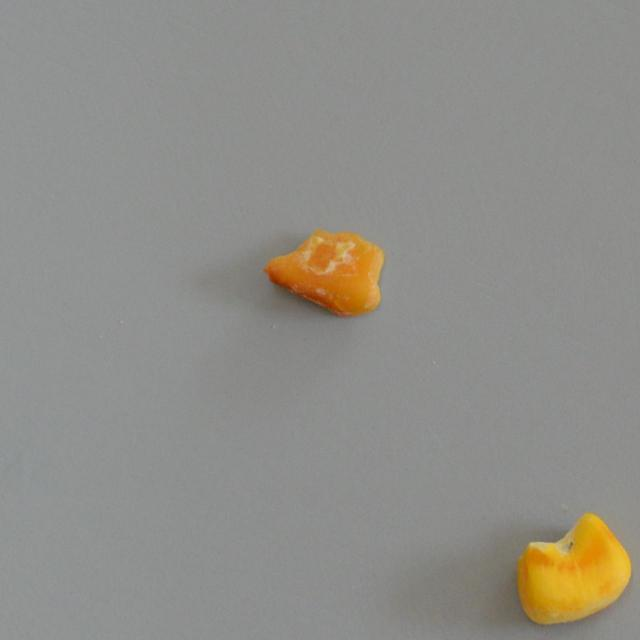dañado: (256, 222, 390, 323), (517, 511, 636, 621)
